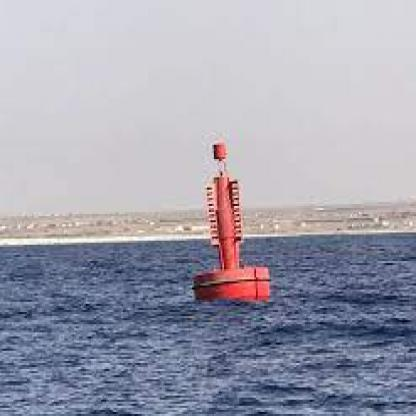buoy: (179, 139, 276, 310)
